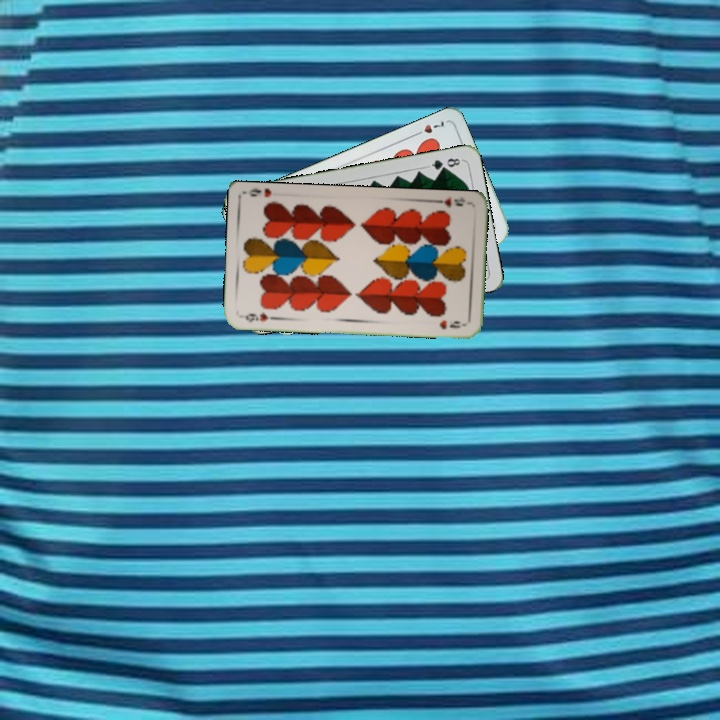G8: (424, 154, 465, 173)
H7: (409, 116, 447, 139)
H9: (431, 193, 472, 210), (238, 308, 271, 324)
